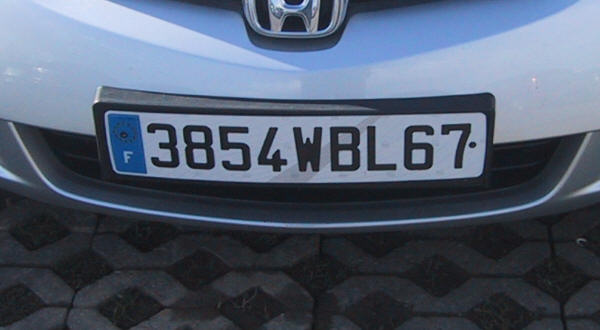license_plate: (101, 109, 489, 182)
